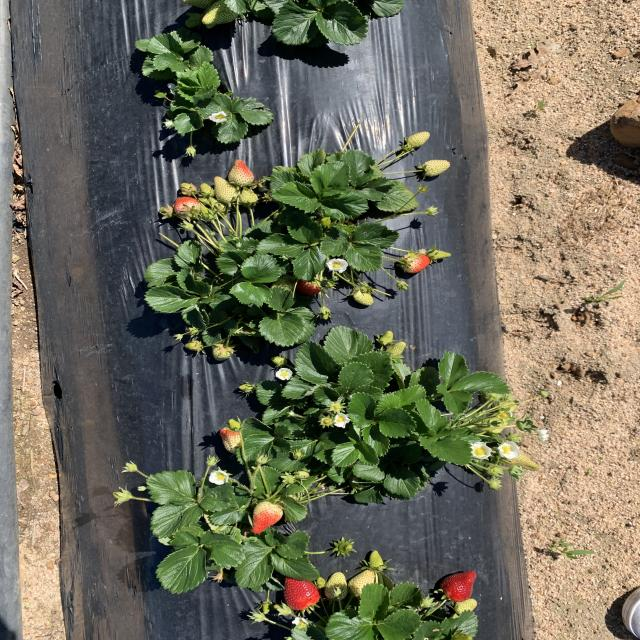unripe: (278, 572, 326, 610), (436, 568, 478, 603), (249, 502, 285, 534), (398, 254, 432, 273), (298, 275, 324, 295)
